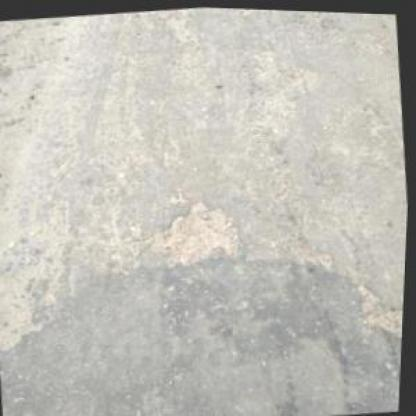pothole: (155, 189, 250, 266), (367, 301, 405, 337)
